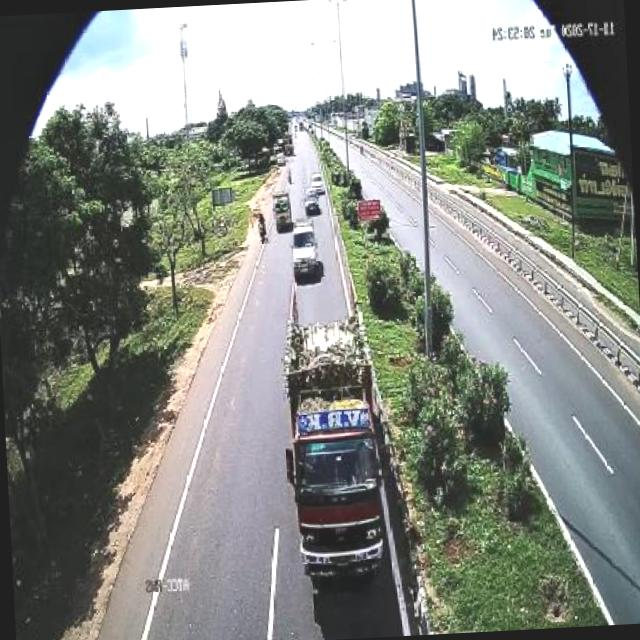car: (286, 212, 321, 285)
